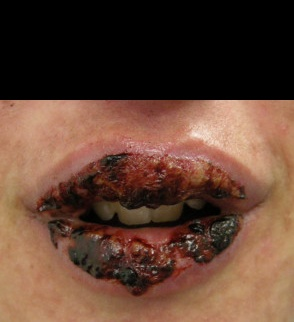SJS-TEN: (0, 111, 294, 322)
